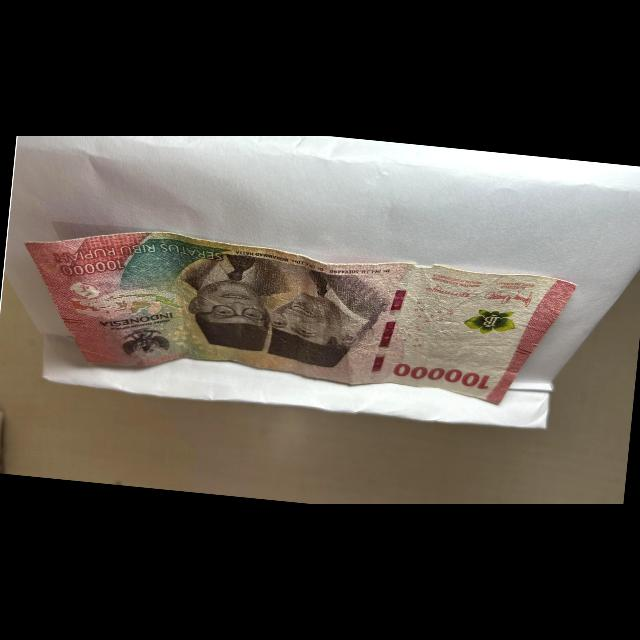Palsu-100k: (1, 220, 598, 416)
Tinta-Palsu-100k: (458, 305, 524, 341)
